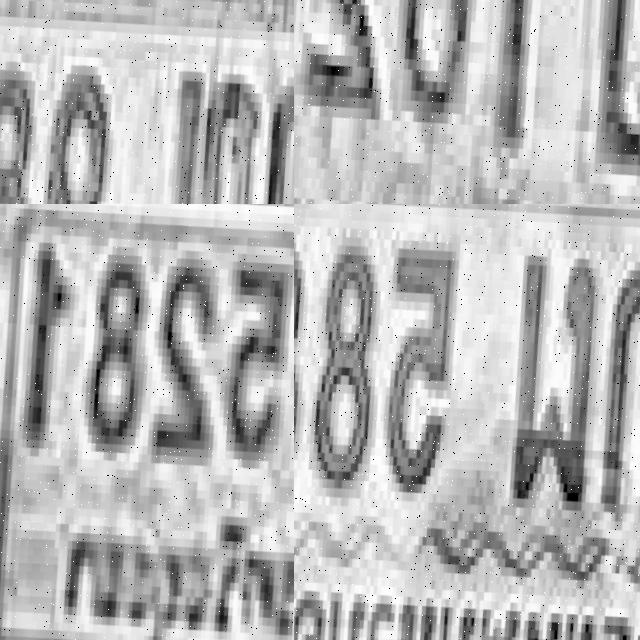license-plate: (294, 204, 640, 640), (0, 204, 294, 640), (294, 0, 640, 204), (0, 0, 294, 204)
